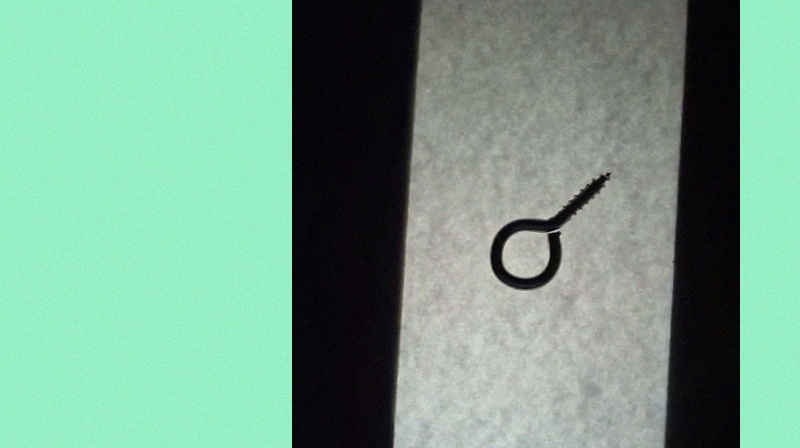O001: (487, 164, 619, 294)
